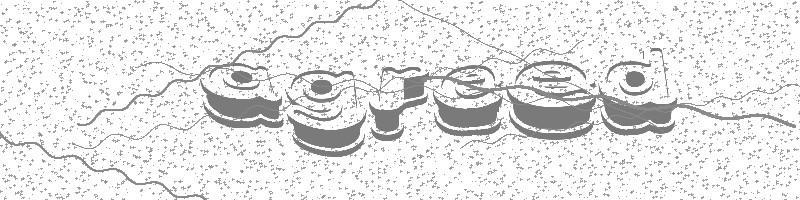a: (199, 62, 286, 130)
d: (598, 45, 677, 136)
e: (508, 60, 596, 140), (432, 65, 504, 136)
g: (287, 69, 368, 157)
r: (369, 66, 429, 142)
